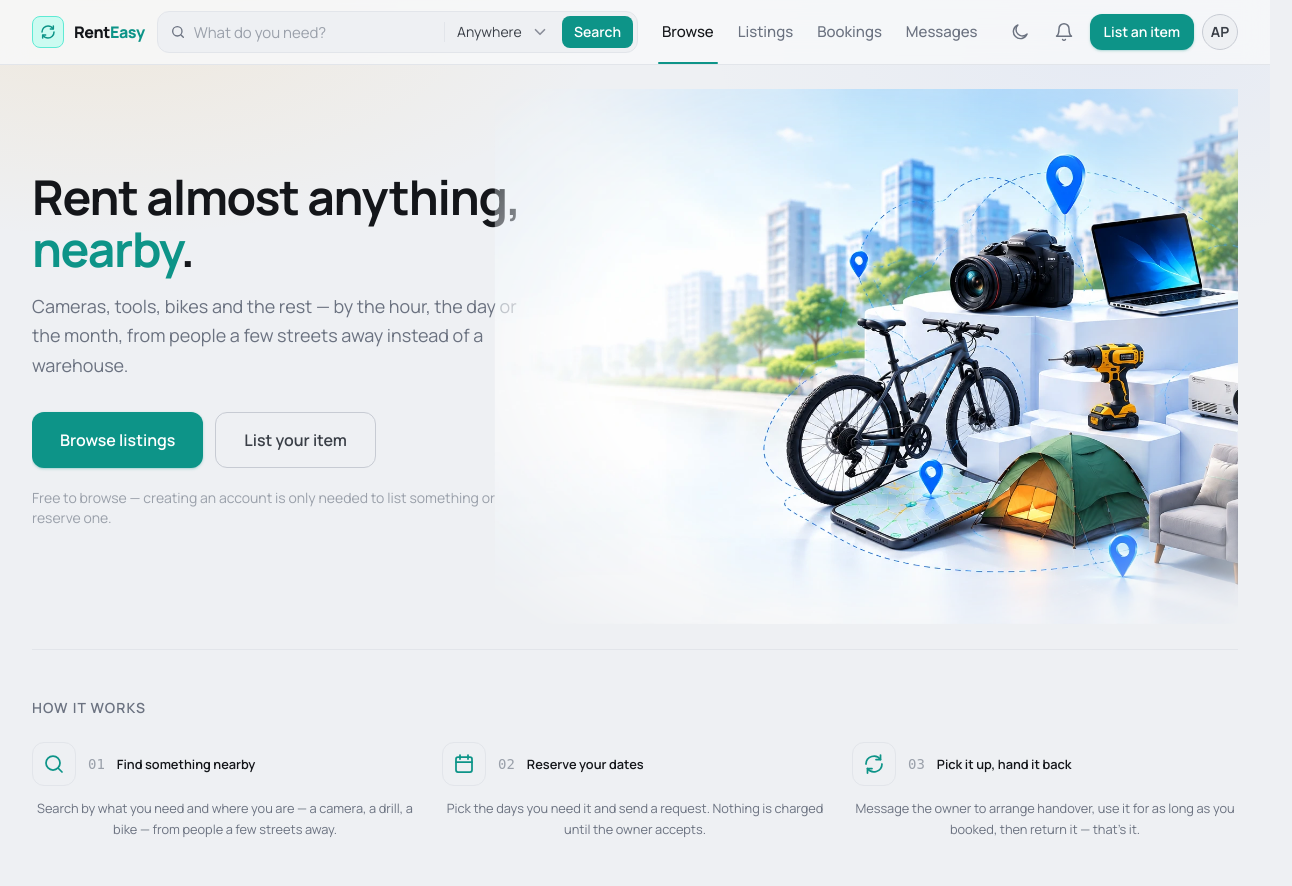
the header's account control › opens a menu with the account link and sign out
Click the button with aria-label "account menu for asha patil".
click(1220, 32)  # box top-left (1202, 14), bottom-right (1238, 50)
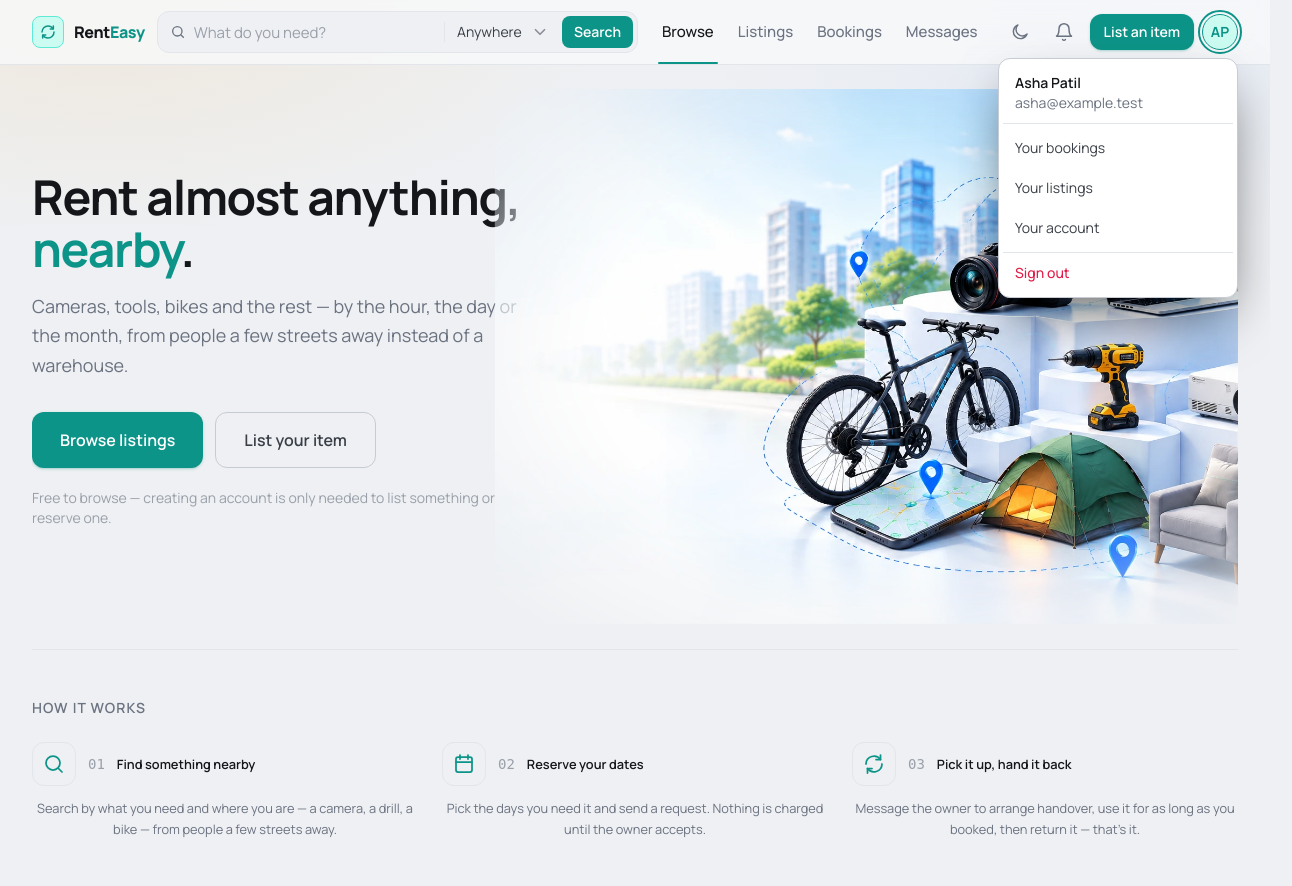
Now the menu is shown, box top-left (998, 58), bottom-right (1238, 298)
Now the text "asha@example.test" is shown, box top-left (1015, 93), bottom-right (1143, 112)
Now the menu item "Sign out" is shown, box top-left (1003, 252), bottom-right (1233, 293)
